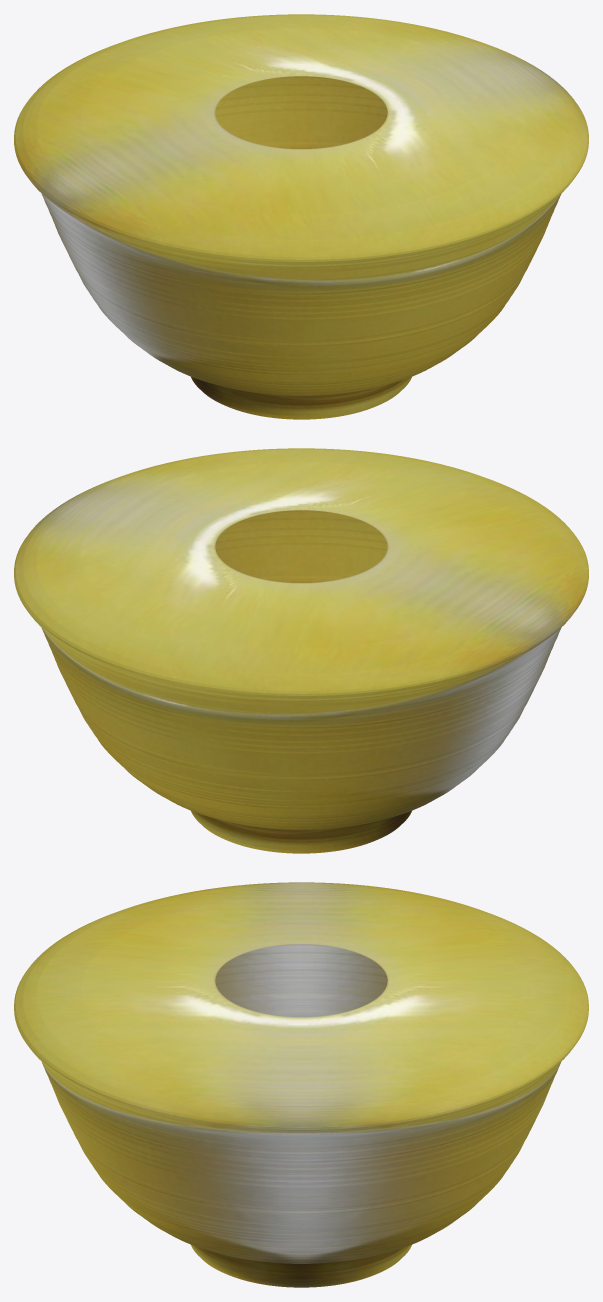
File: cma-75573.glb
3 renders of one model, top to bottom at view 1: azimuth 30°, elevation 25°; view 2: azimuth 150°, elevation 25°; view 3: azimuth 270°, elevation 25°, orthographic.
Visible parts, largest first — view 1: geometry_0; view 2: geometry_0; view 3: geometry_0.
Boxes of the visible parts, left/top/right/bottom form: geometry_0: left=14, top=14, right=588, bottom=419; geometry_0: left=14, top=448, right=588, bottom=853; geometry_0: left=14, top=882, right=588, bottom=1287.
Size of the model in its own units: 57.64 by 30 by 57.64.
1 material, 1 textured.
